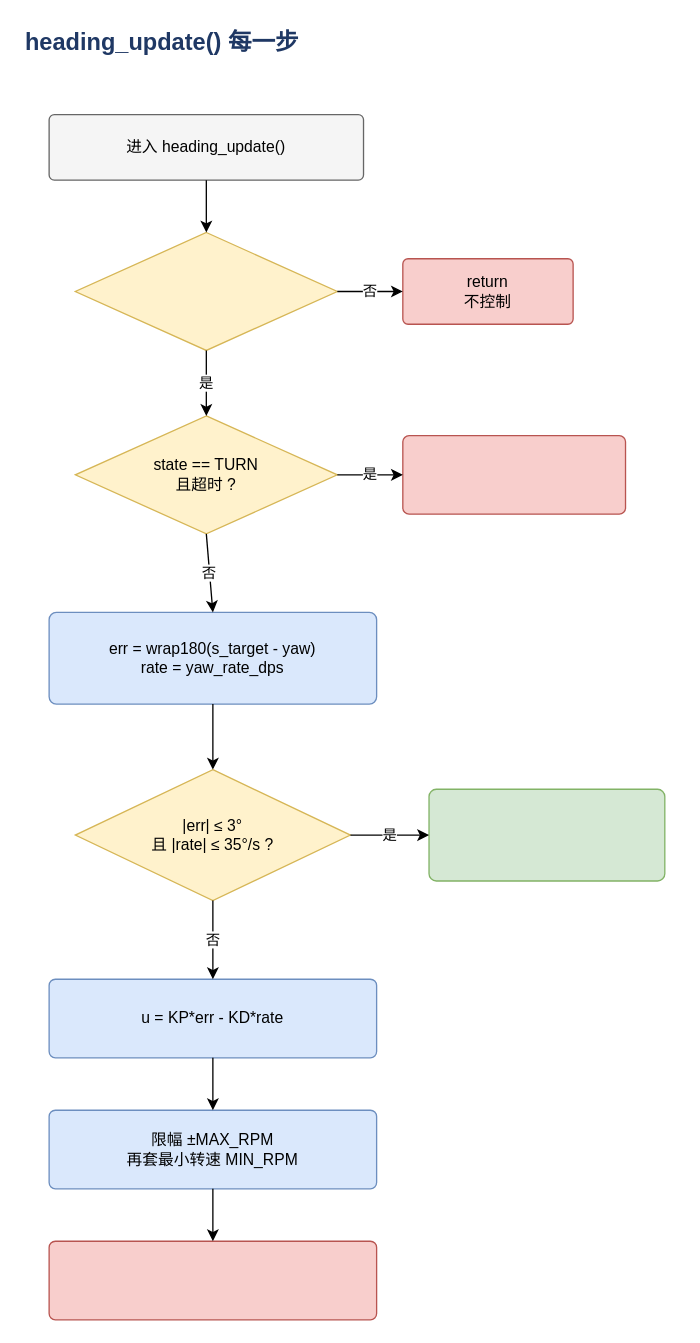
This 700x1343 diagram has some shape labels left out. The centre of each missing label's shape, as x and y in pixels:
"state == TURN 或 HOLD ?" goes at point (205, 290).
"TIMEOUT 输出 0，return" goes at point (514, 474).
"TURN → HOLD left=right=0 return" goes at point (546, 834).
"u *= HEADING_OUTPUT_SIGN left = -u, right = +u" goes at point (212, 1280).
